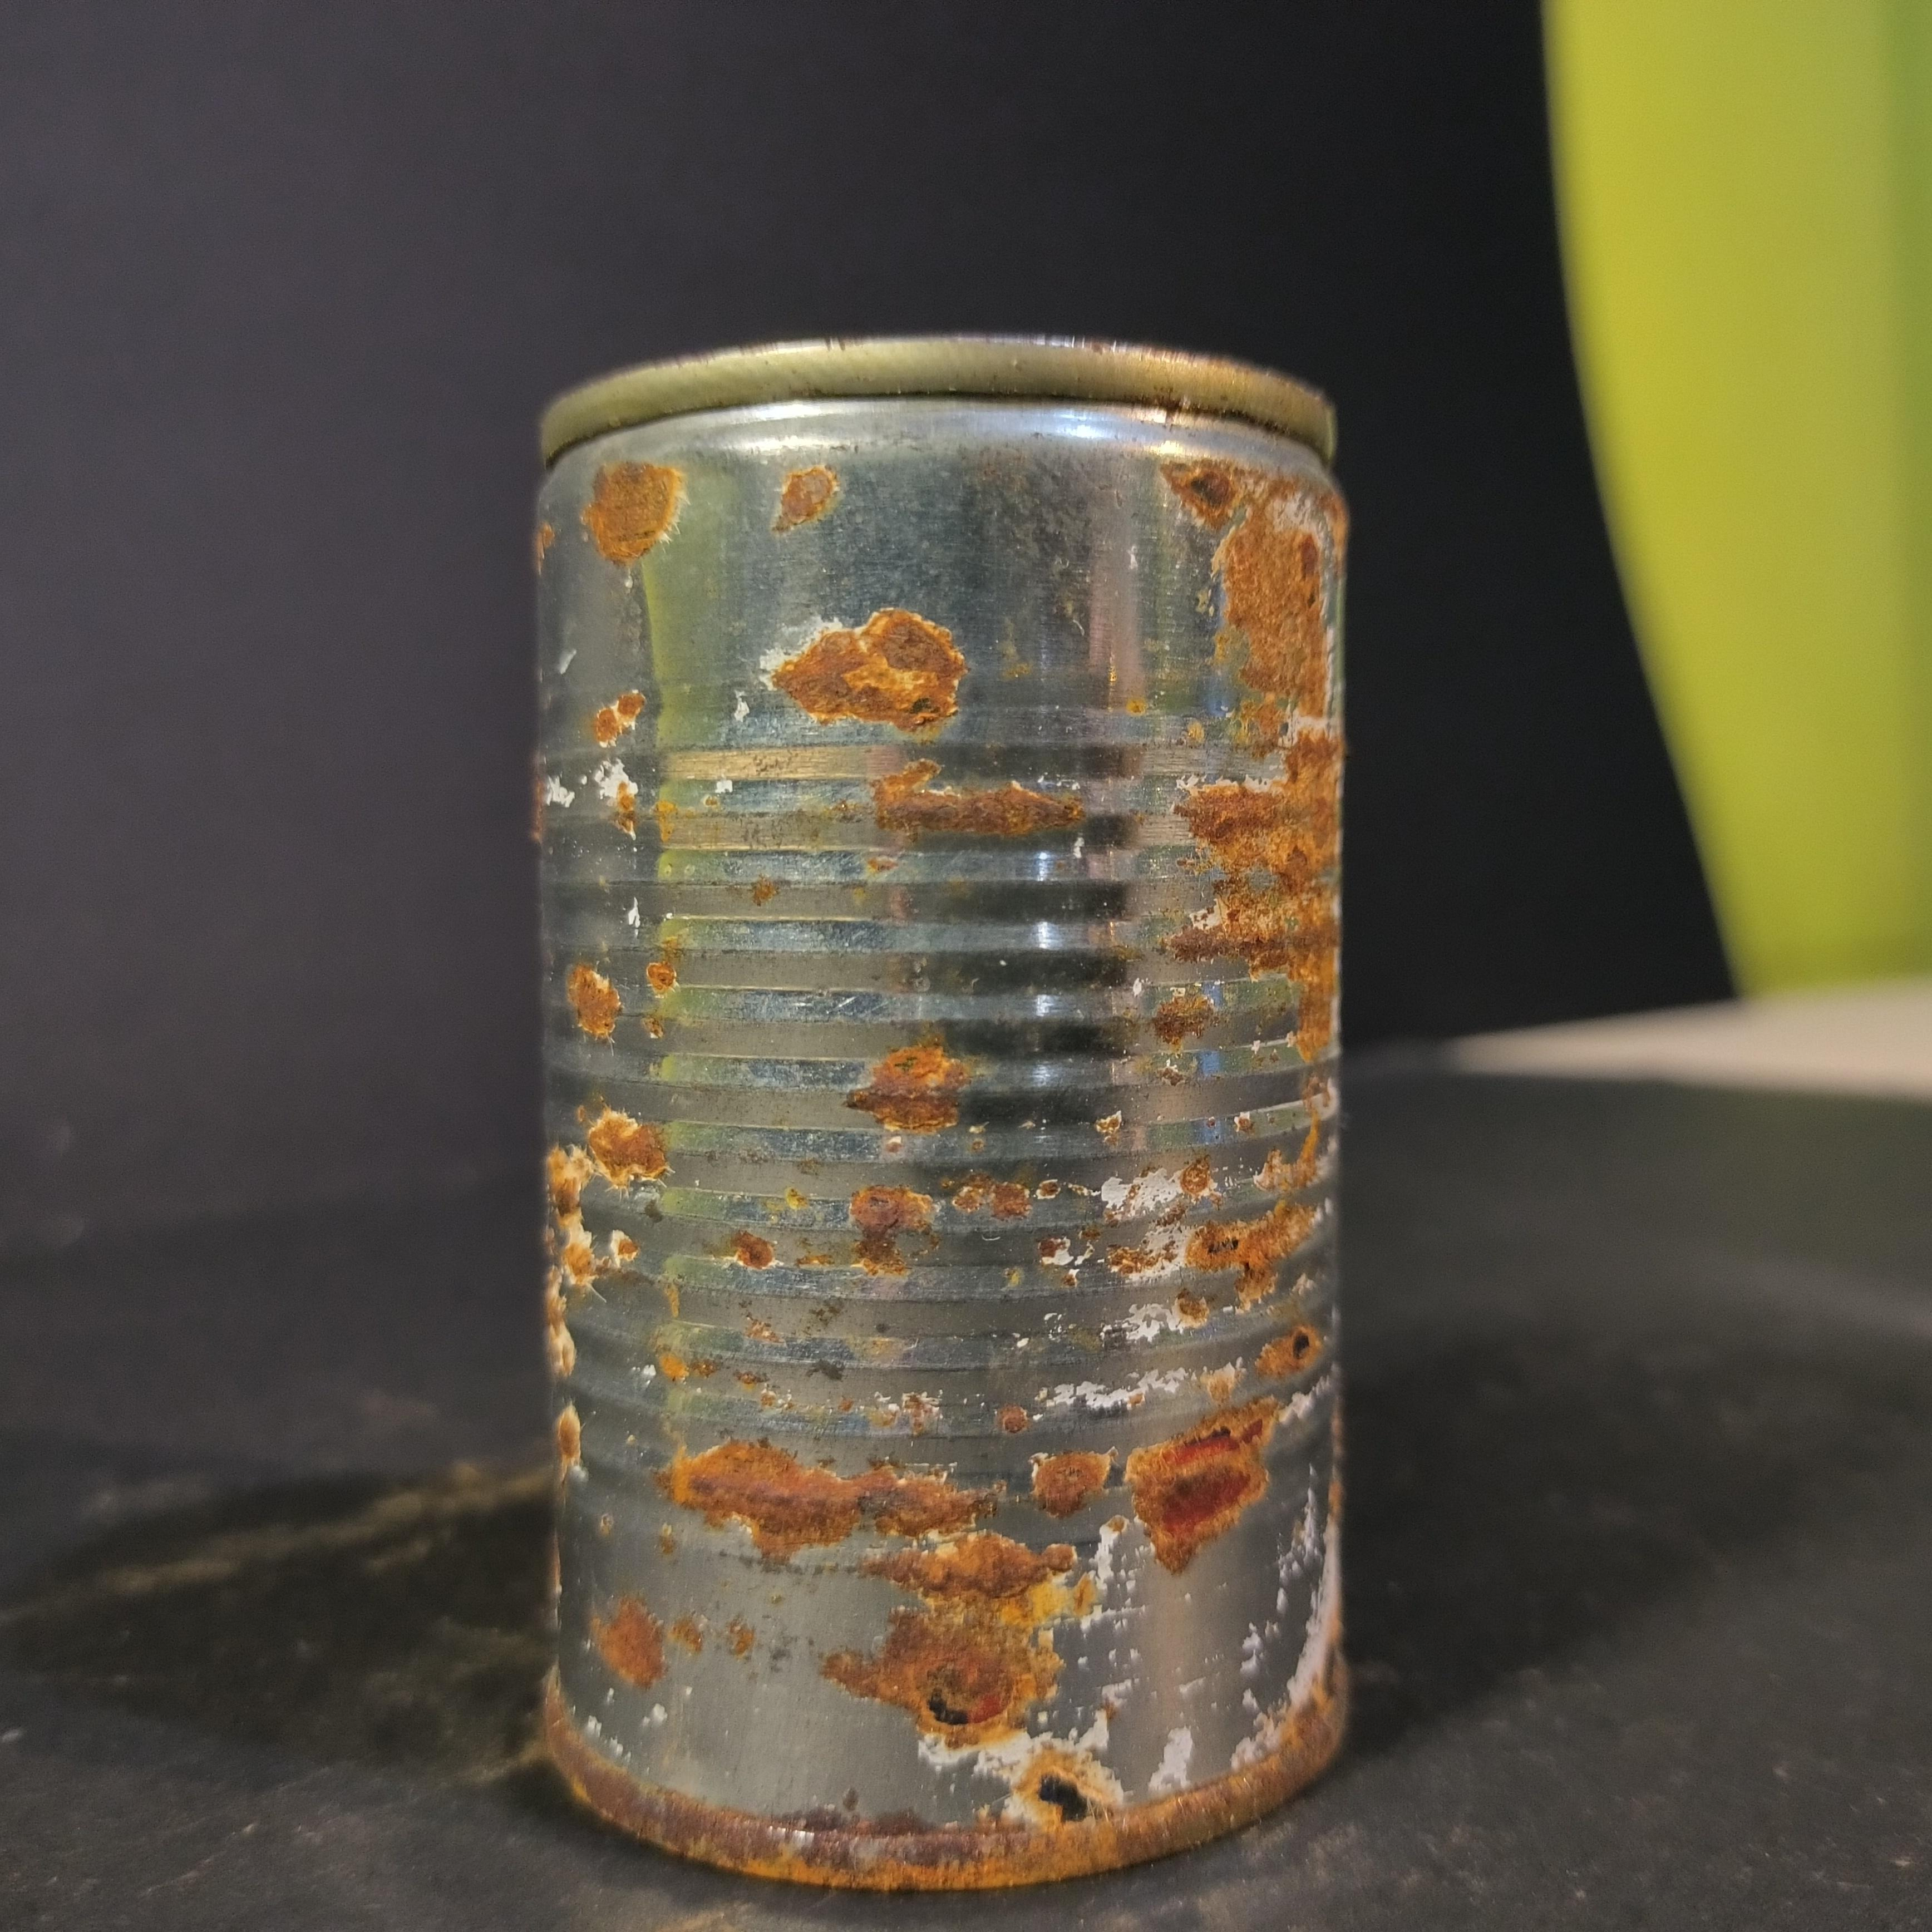Rusted: (478, 306, 1422, 1932)
